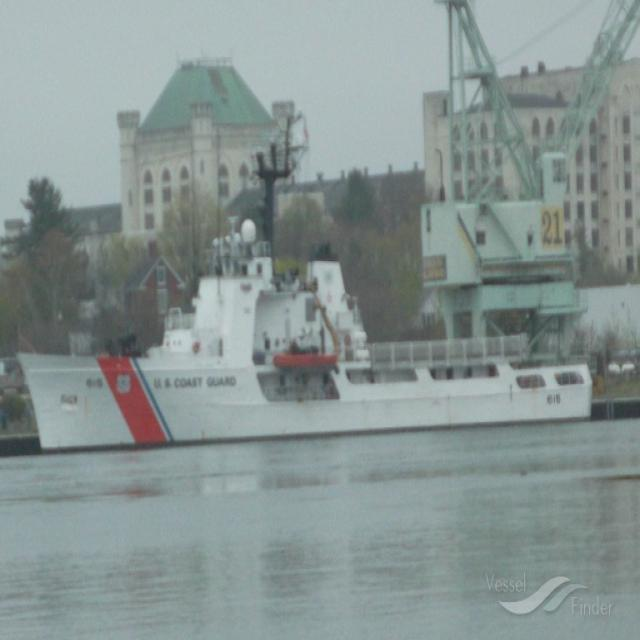OCR: (144, 368, 240, 397), (77, 369, 108, 395), (546, 390, 566, 410)
